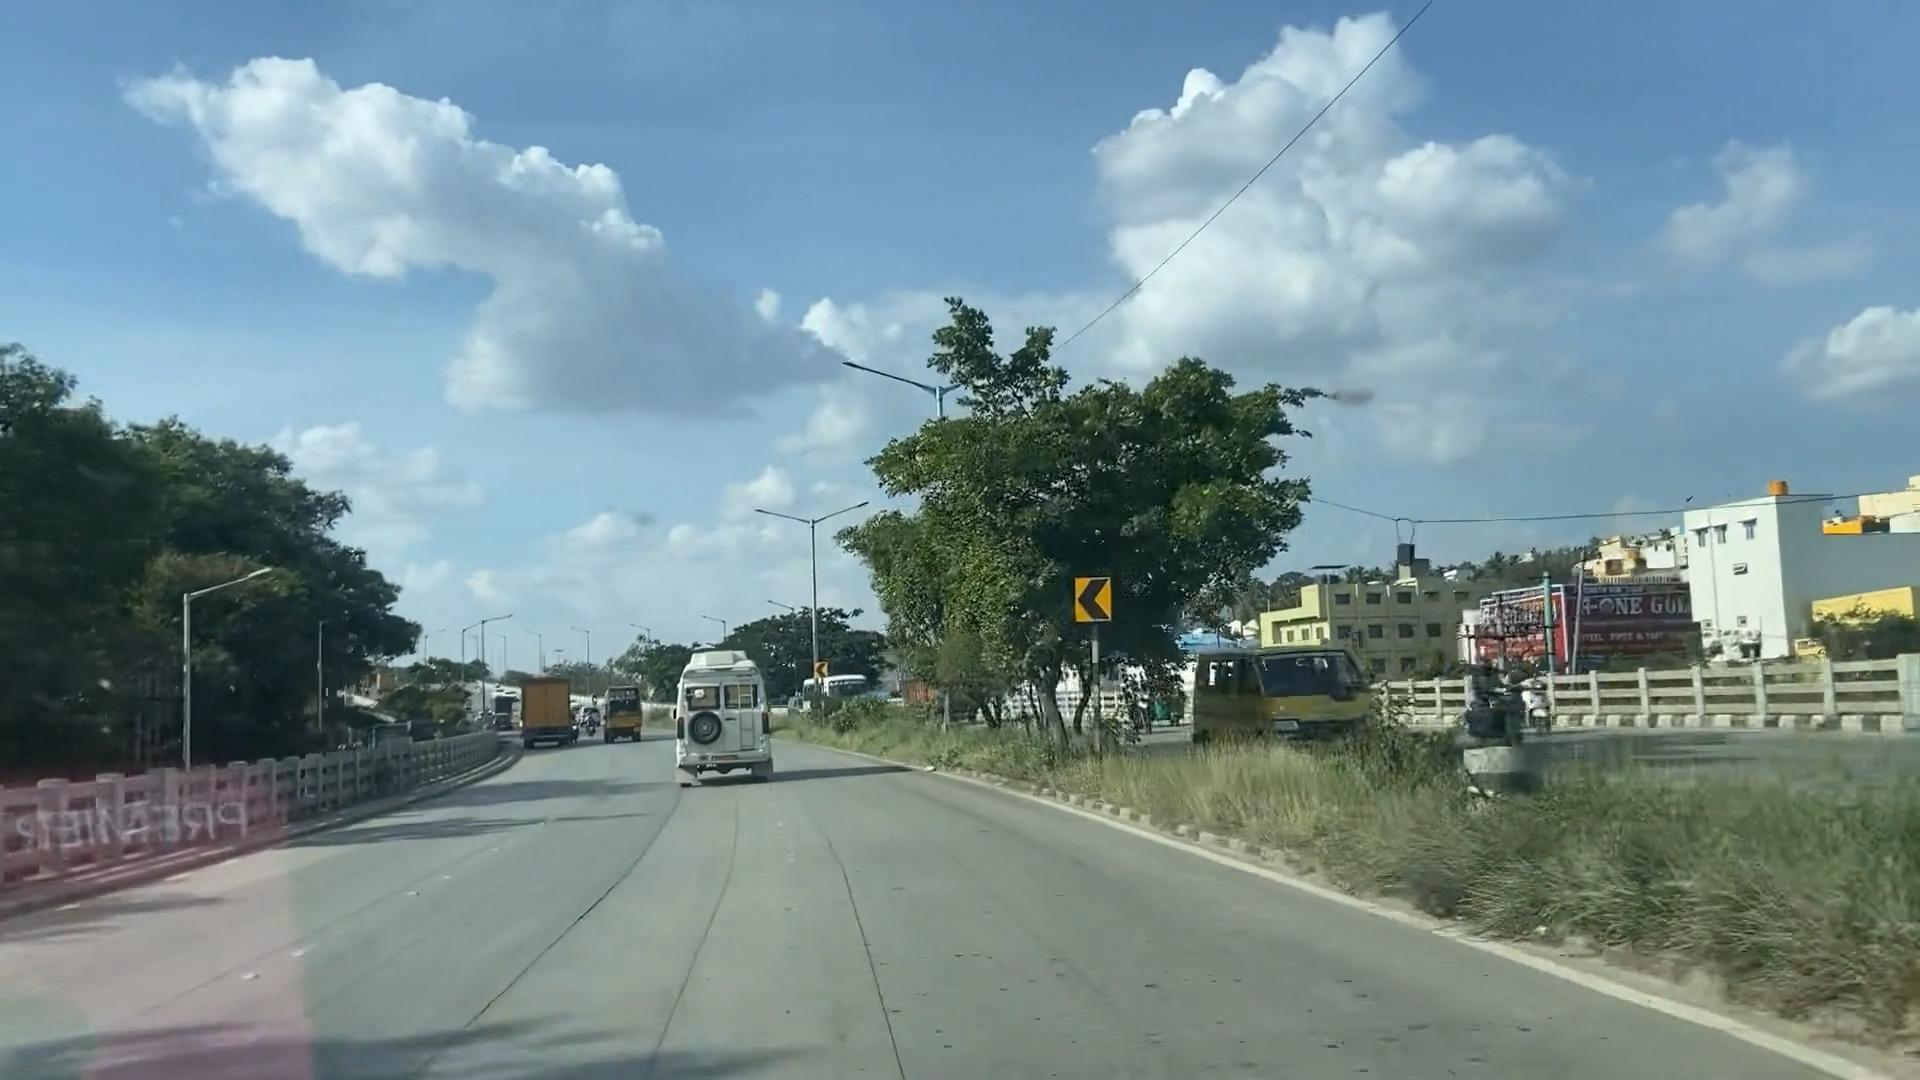HMV: (674, 662, 774, 765)
